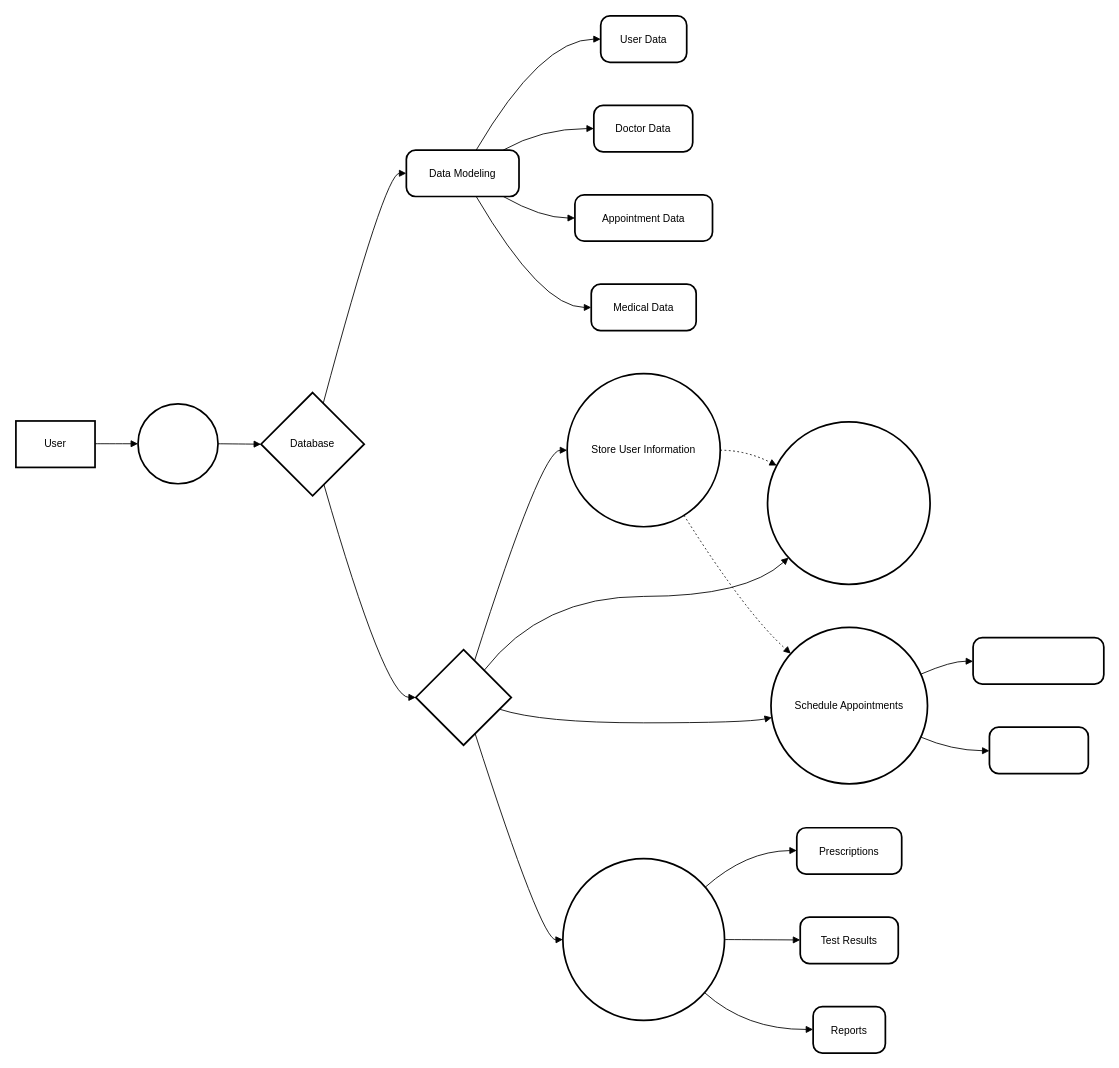
The diagram is 1119 pixels wide and 1068 high, and some of its shapes have lost their labels. The shapes that lost their labels are listed below. From the top down, each one's box as (x1, y1, x2, y2) in pixels, then its label:
(137, 402, 218, 484): Mobile App
(766, 421, 931, 585): Track Doctor Availability
(972, 636, 1104, 685): Event Scheduling
(415, 648, 512, 746): Purpose
(988, 726, 1089, 774): Notification
(562, 857, 725, 1021): Manage Medical Records
